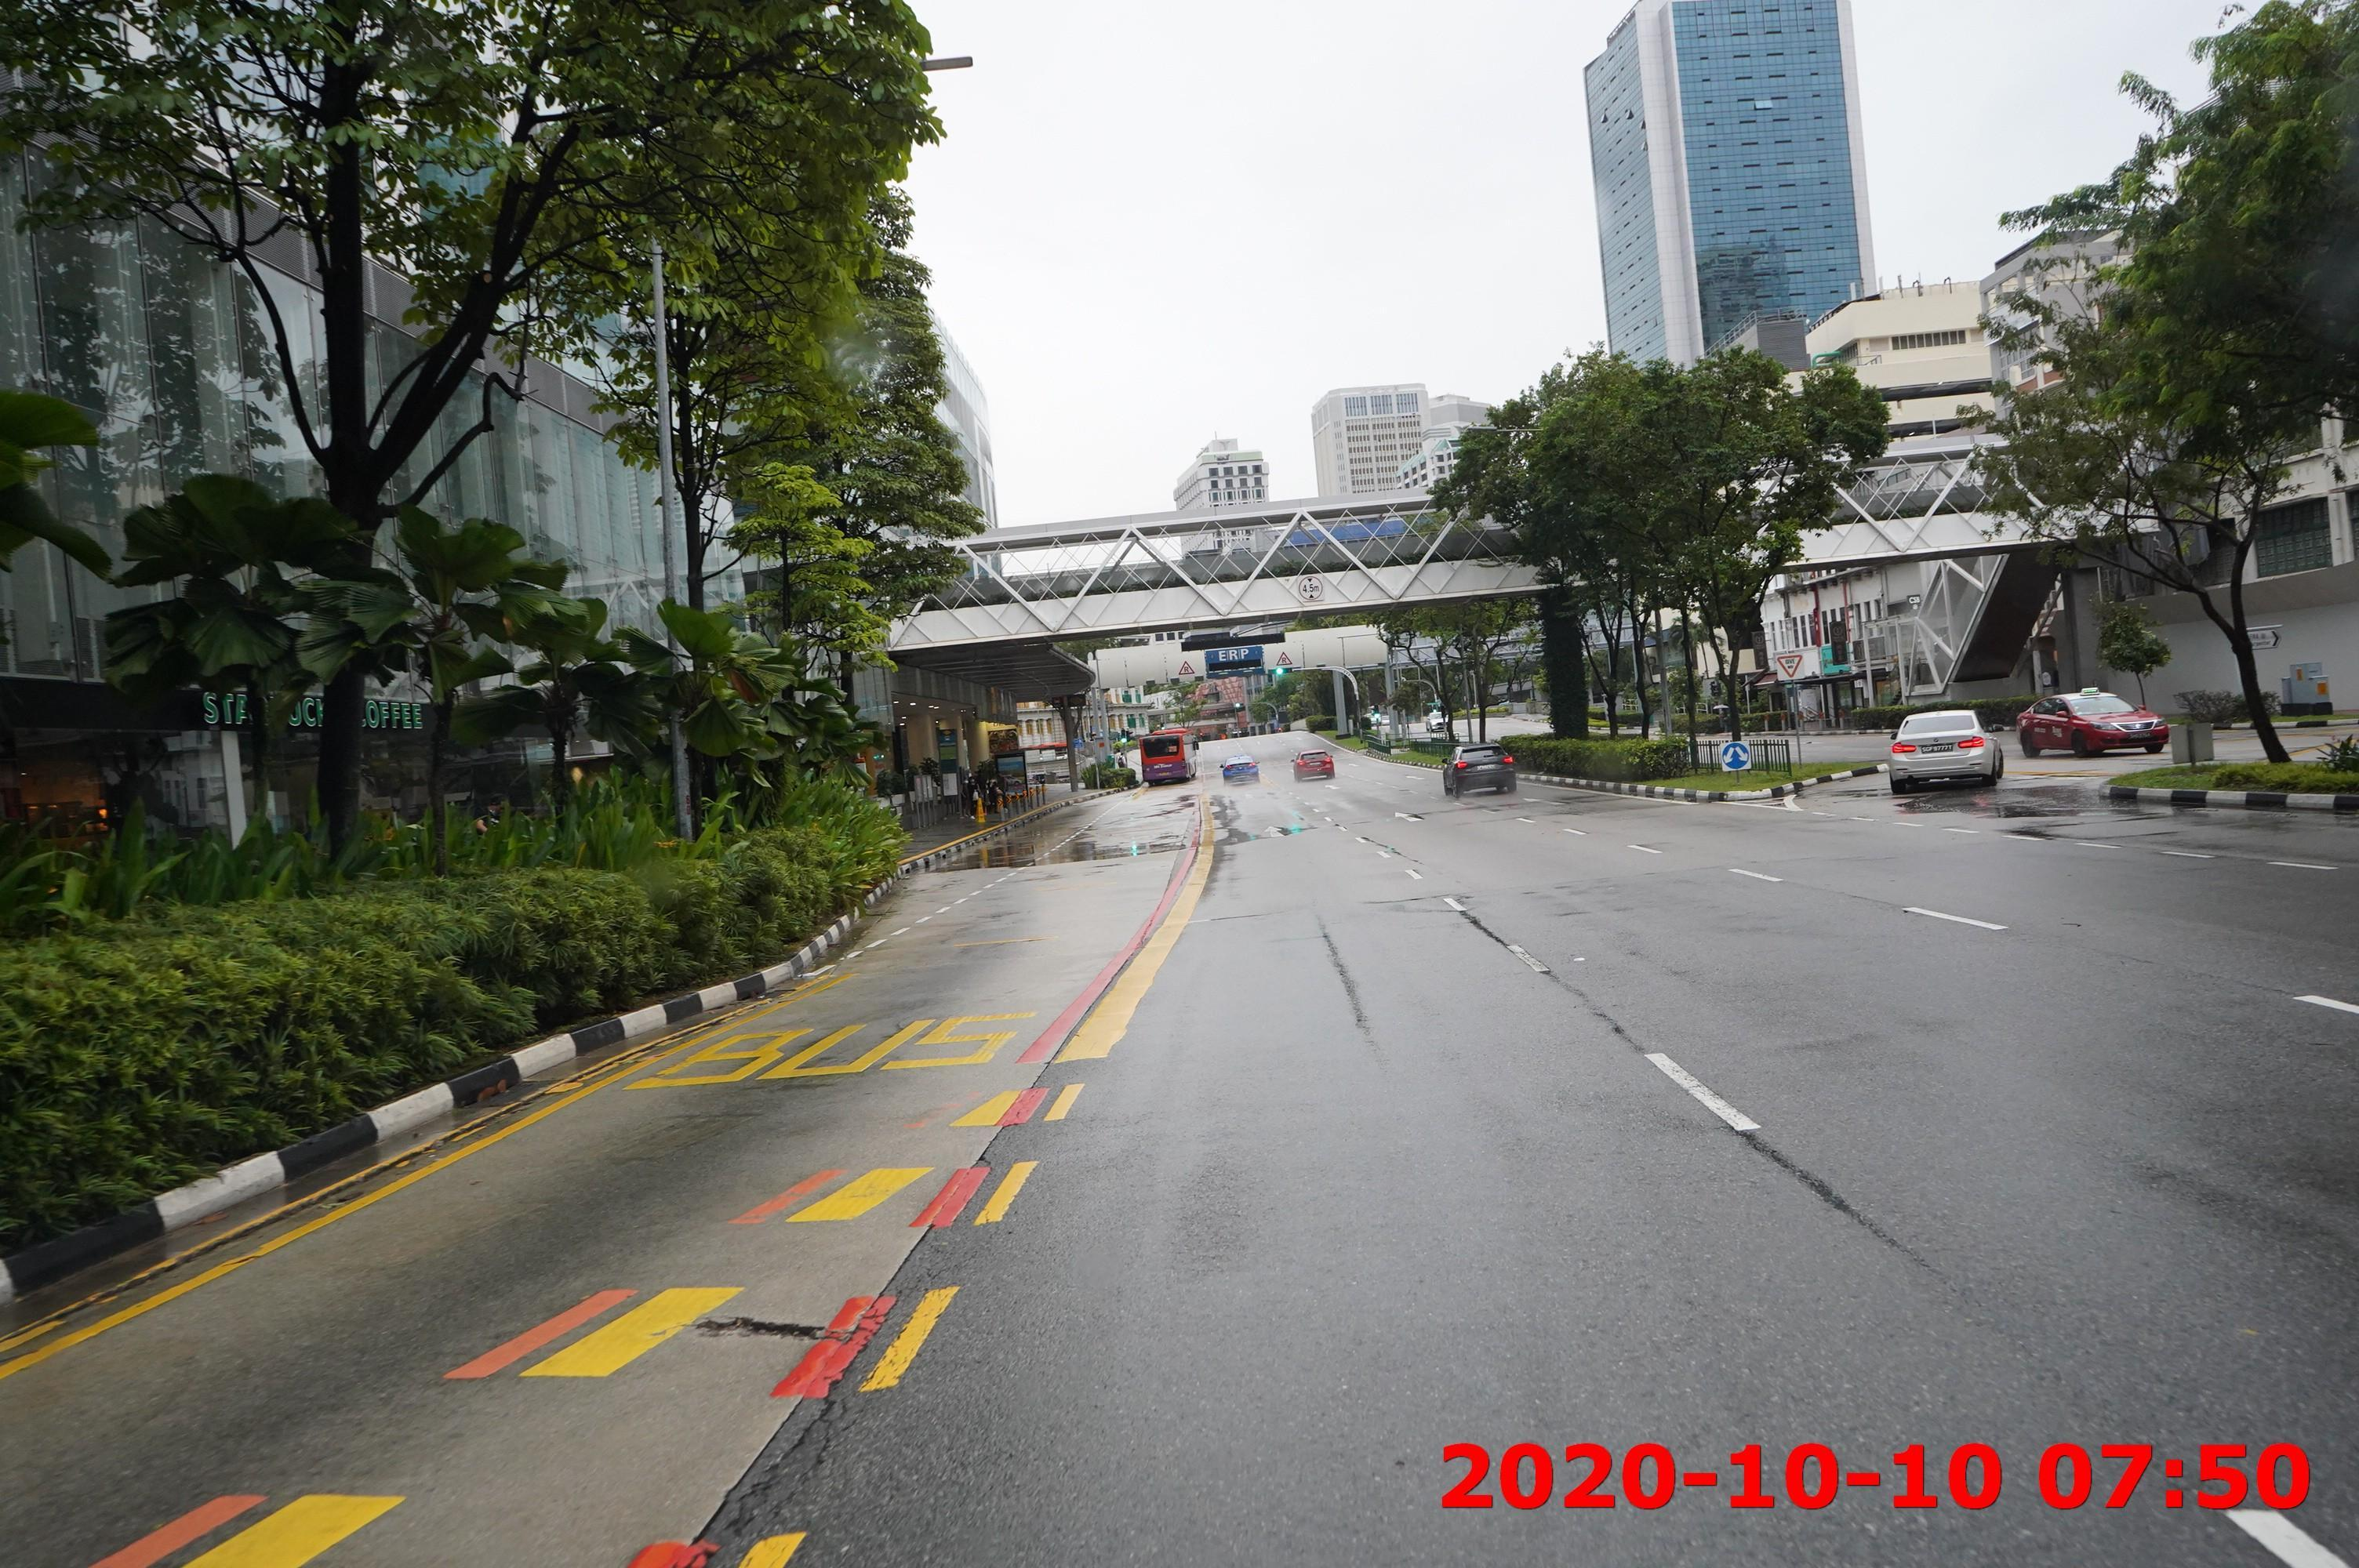peeling off premix: (665, 1302, 845, 1351)
single crack: (1687, 1122, 1939, 1274), (700, 1405, 854, 1549)
